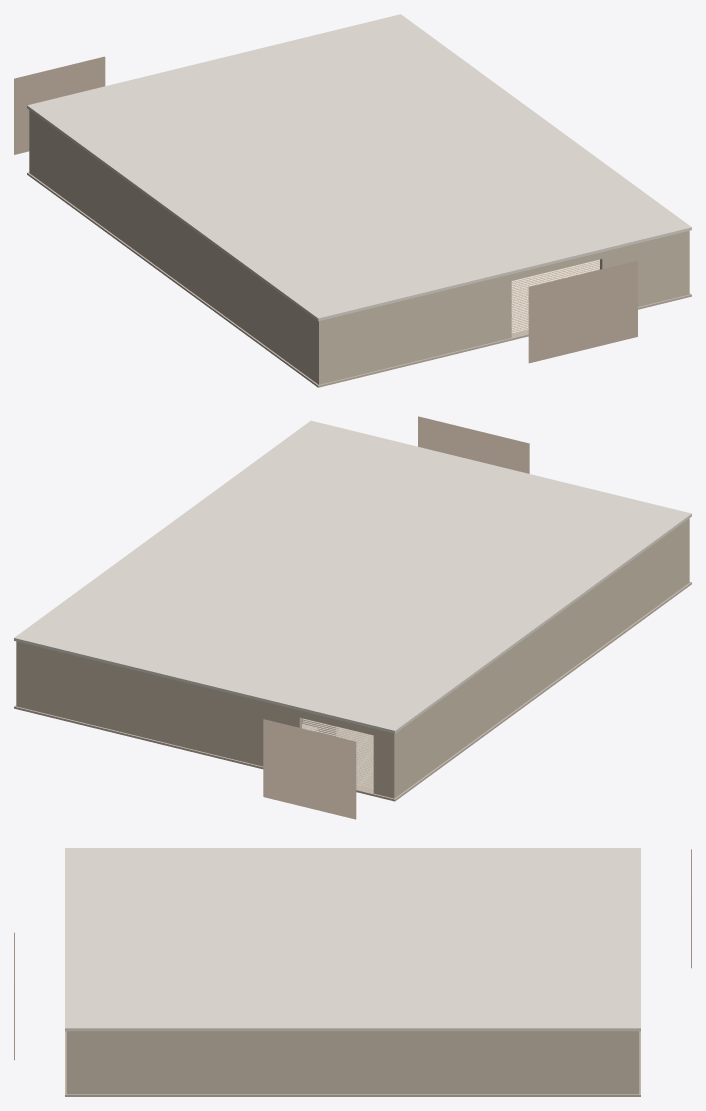
3 views of the same model, one above another, from view 1: azimuth 30°, elevation 25°; view 2: azimuth 150°, elevation 25°; view 3: azimuth 270°, elevation 25° (orthographic). The views are drawn at different scales.
Parts seen in each view (by area): view 1: plafon, tembok barat, tembok selatan kiri, kotak cahaya, tembok selatan kanan, kotak cahaya.001, lantai, ambang selatan; view 2: plafon, tembok barat, tembok utara kanan, kotak cahaya.001, kotak cahaya, lantai, tembok utara kiri; view 3: plafon, tembok timur, lantai.
Boxes of the visible parts, left/top/right/bottom form: plafon: left=27, top=14, right=691, bottom=321; tembok barat: left=31, top=112, right=316, bottom=382; tembok selatan kiri: left=316, top=274, right=511, bottom=384; kotak cahaya: left=528, top=260, right=637, bottom=363; tembok selatan kanan: left=600, top=231, right=689, bottom=306; kotak cahaya.001: left=14, top=56, right=105, bottom=154; lantai: left=27, top=172, right=691, bottom=387; ambang selatan: left=511, top=252, right=602, bottom=280; plafon: left=14, top=420, right=691, bottom=733; tembok barat: left=396, top=520, right=687, bottom=796; tembok utara kanan: left=16, top=641, right=301, bottom=766; kotak cahaya.001: left=263, top=719, right=356, bottom=819; kotak cahaya: left=418, top=416, right=529, bottom=473; lantai: left=14, top=582, right=691, bottom=801; tembok utara kiri: left=373, top=728, right=396, bottom=798; plafon: left=65, top=848, right=640, bottom=1031; tembok timur: left=71, top=1031, right=634, bottom=1094; lantai: left=65, top=1031, right=640, bottom=1096.
Bounding box in the file's own units: 20.6 × 4 × 32.72.
